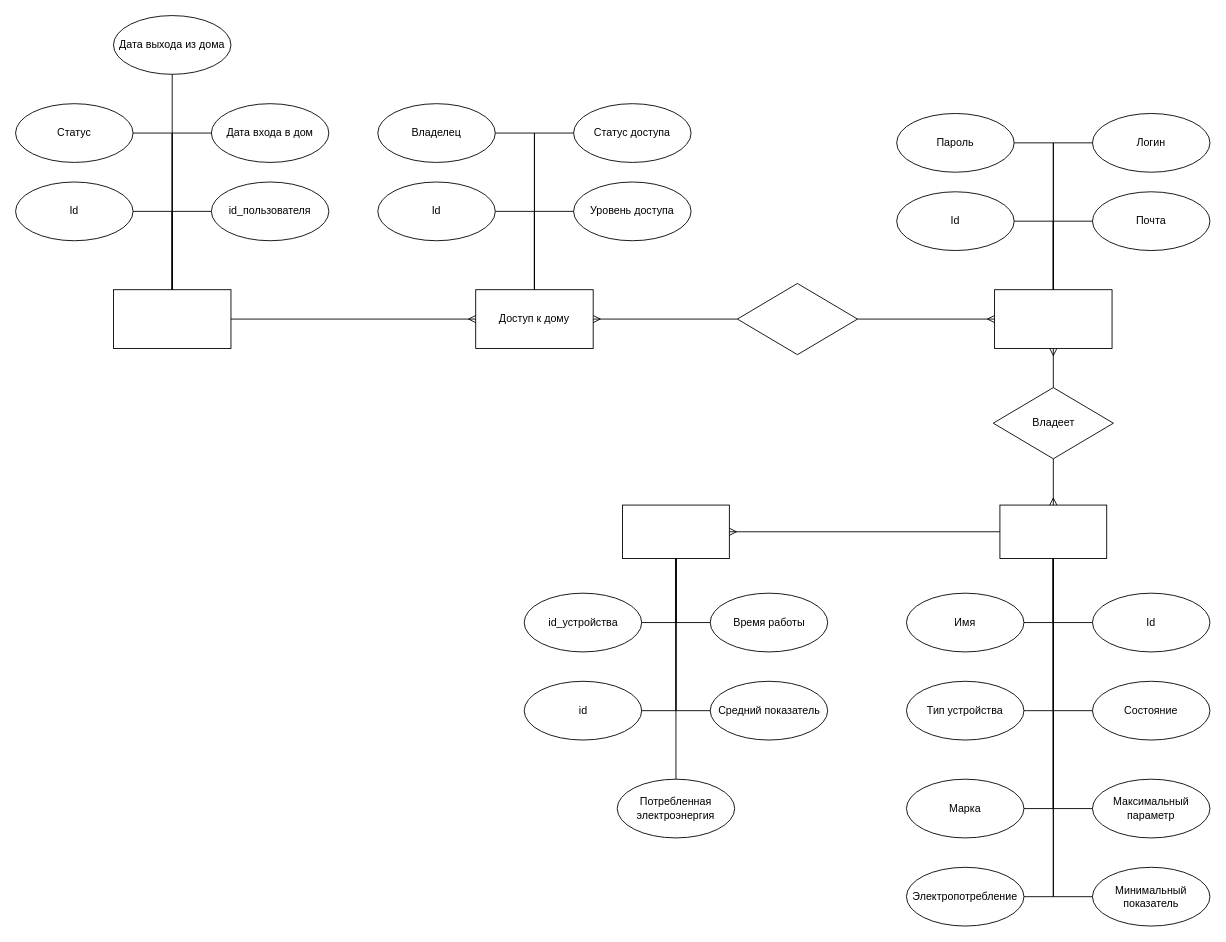
Image size: 1226x942. Some labels were removed from this diagram. Each missing label, with the box of its shape:
Имеет: (736, 283, 858, 355)
История доступа: (113, 289, 231, 348)
История работы устройство: (622, 504, 729, 558)
Пользователь: (994, 289, 1112, 348)
Устройство: (999, 504, 1107, 558)
